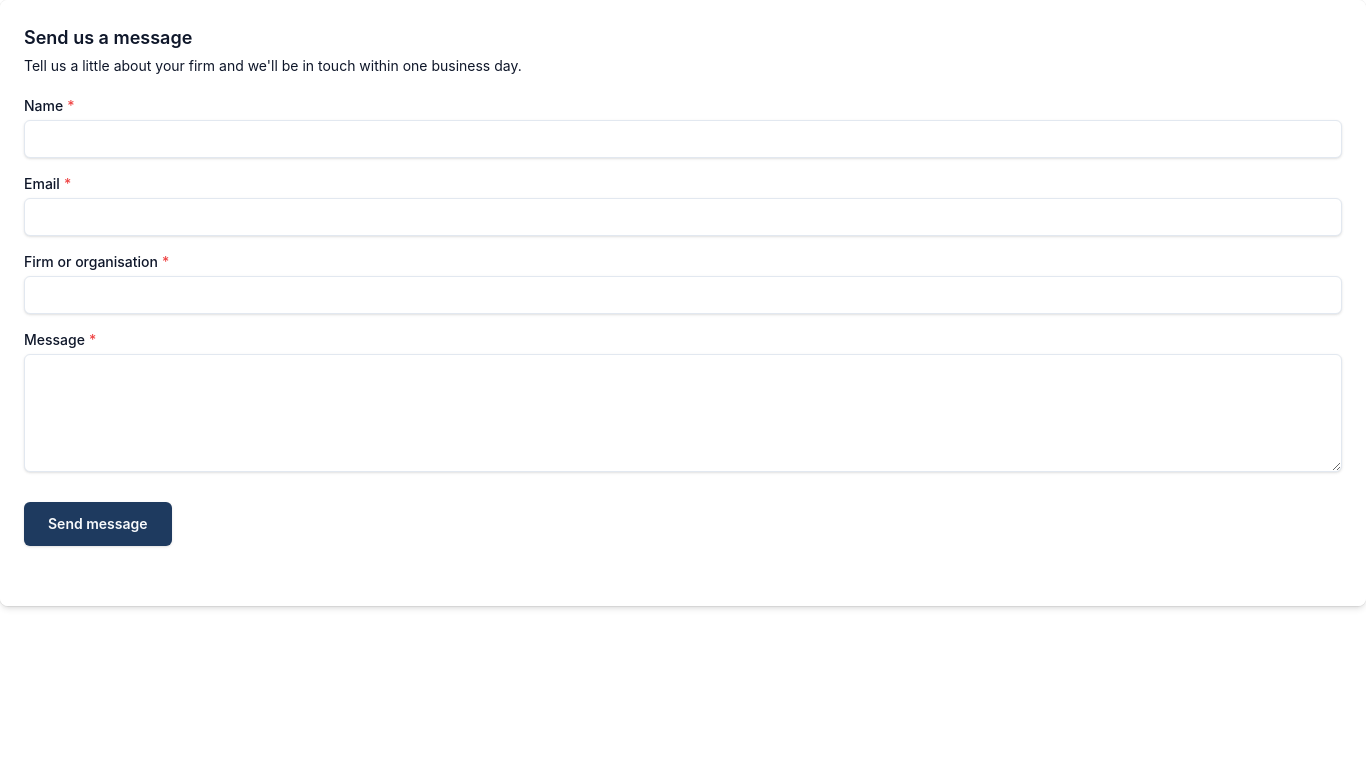
Test: ContactForm — submit paths › shows the network-error fallback when fetch rejects
The width and height of the screenshot is (1366, 768).
Type "Jane Doe" into the field labelled "Name*" at (683, 139), box [24,120,1342,158]
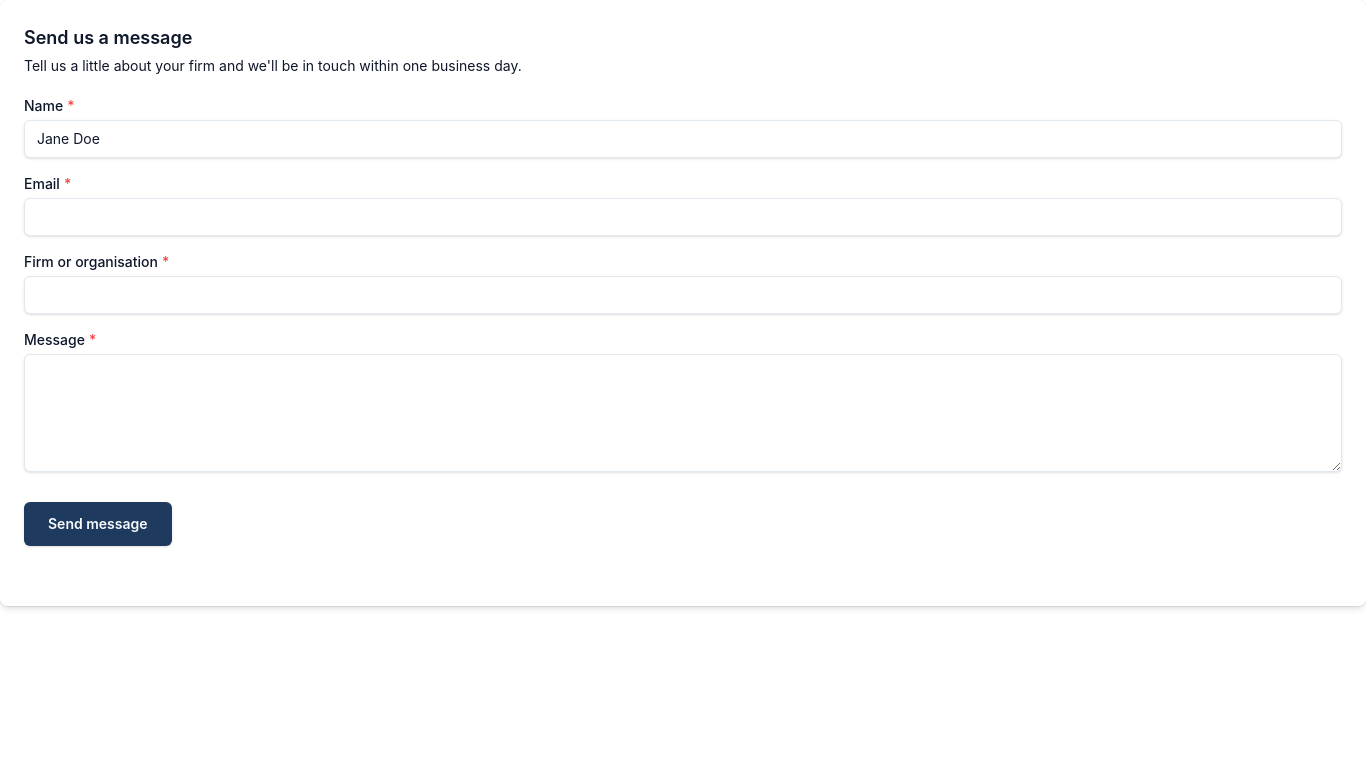
Type "jane@example.com" into the field labelled "Email*" at (683, 217), box [24,198,1342,236]
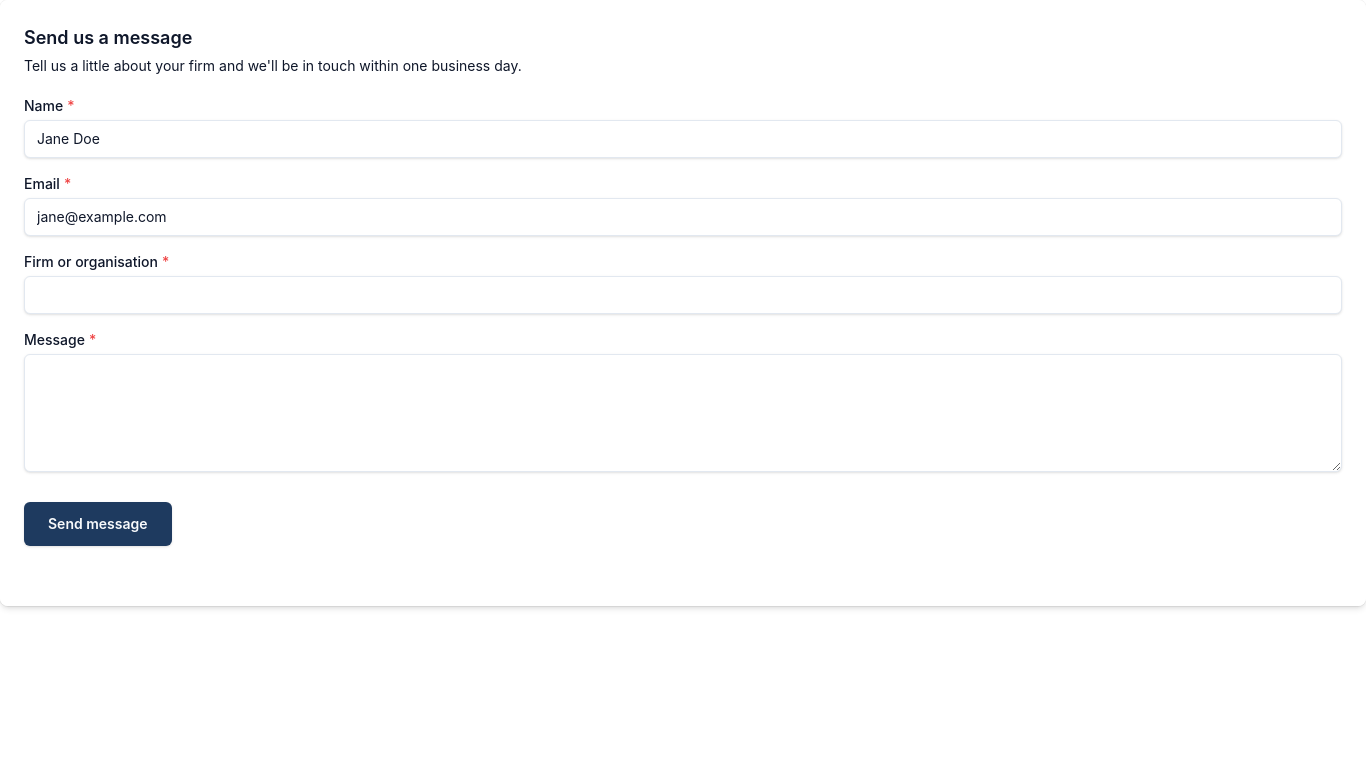
Type "Doe & Co Solicitors" into the field labelled "Firm or organisation*" at (683, 295), box [24,276,1342,314]
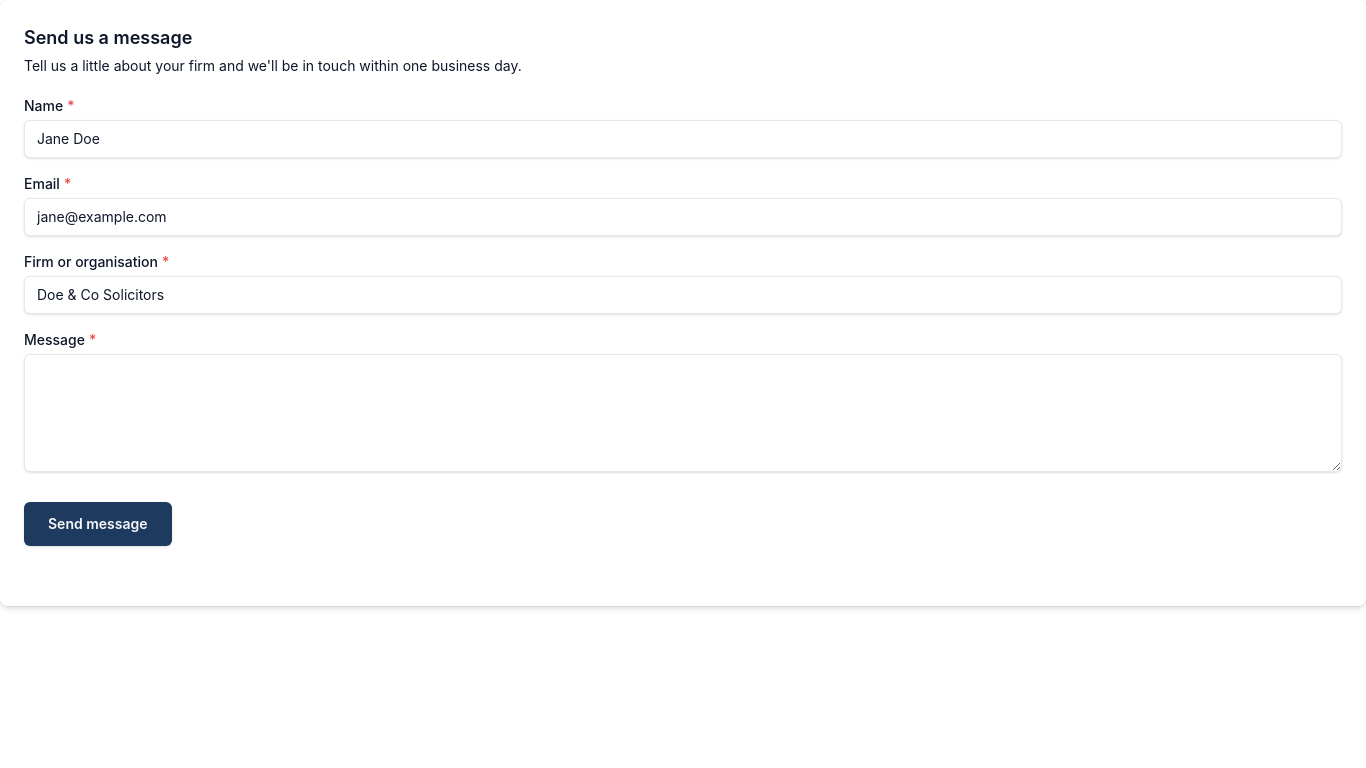
Type "We'd like a demo of CaseSift for our small firm." into the text box labelled "Message*" at (683, 413), box [24,354,1342,472]
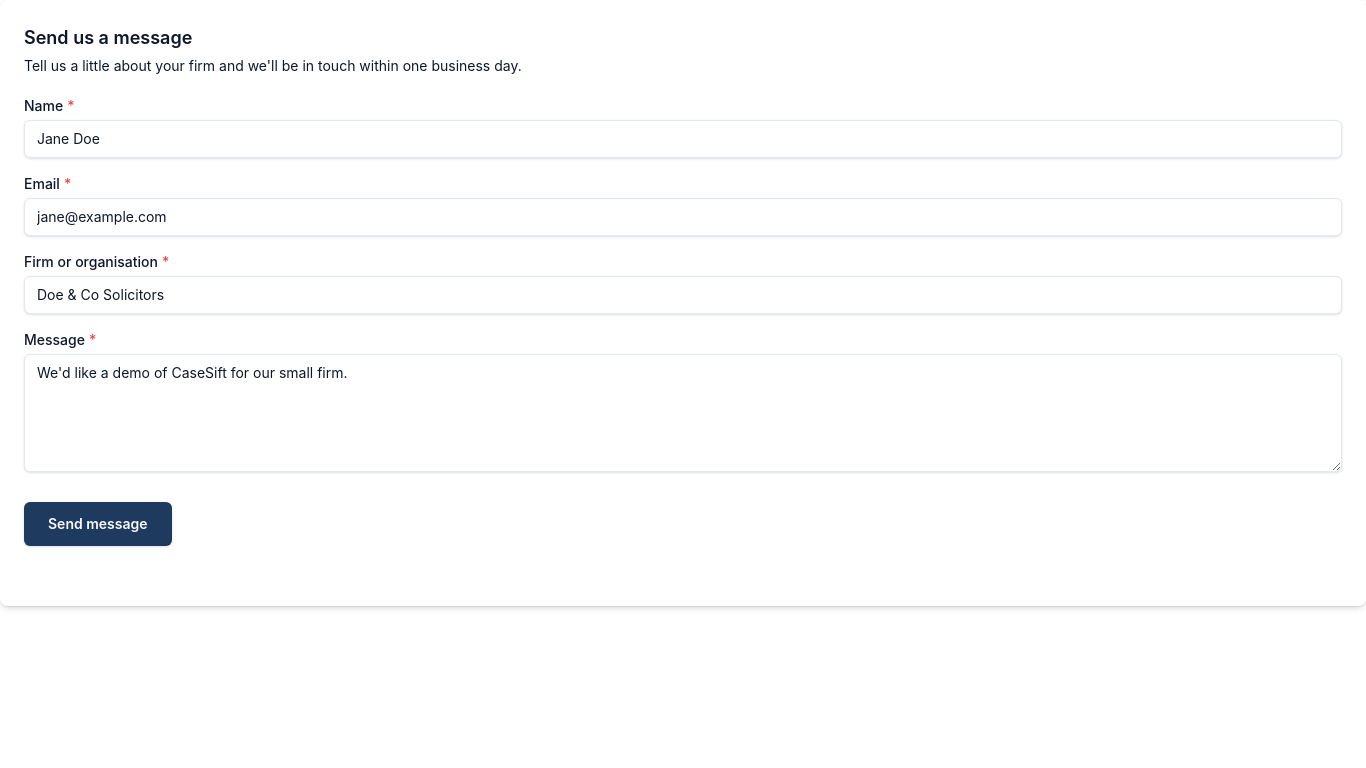
Submit the form named "send message"
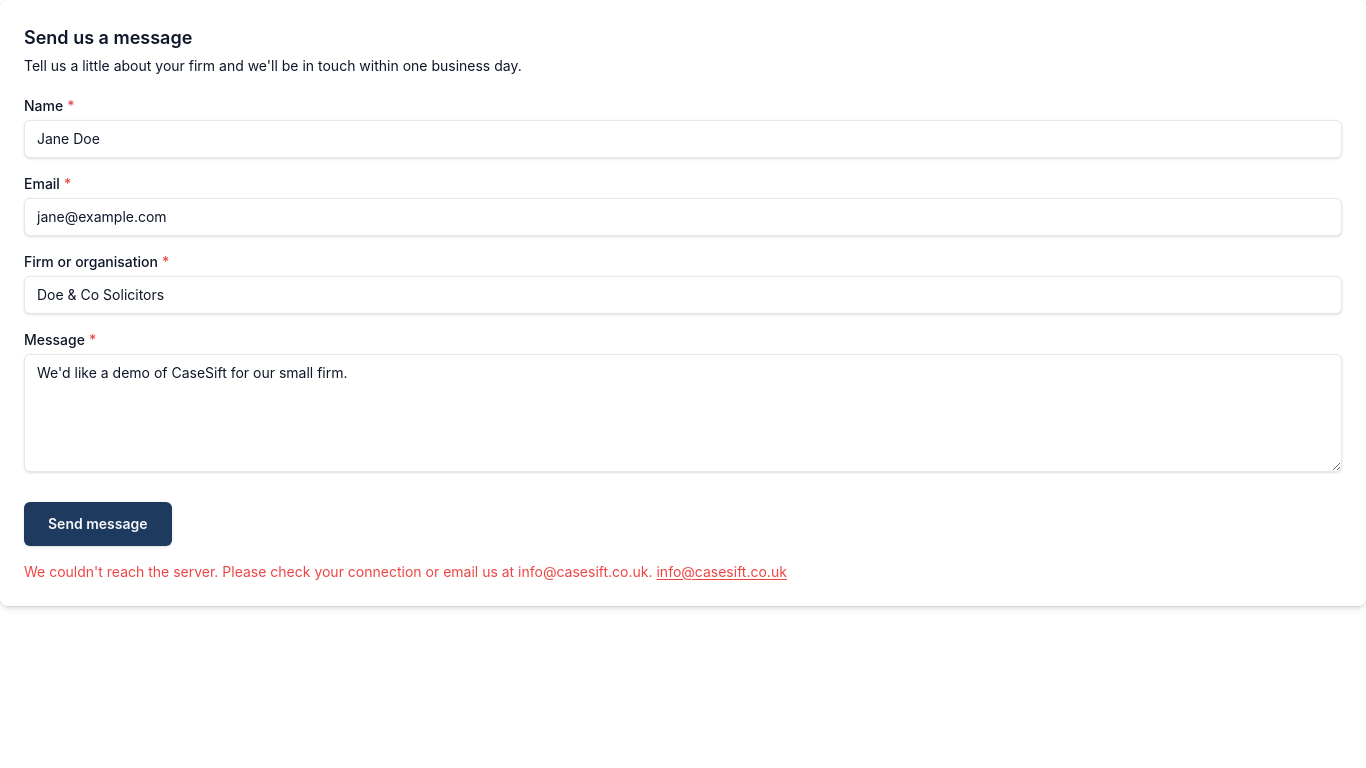
Check: the text "couldn't reach the server" is shown, box [24,563,652,580]
